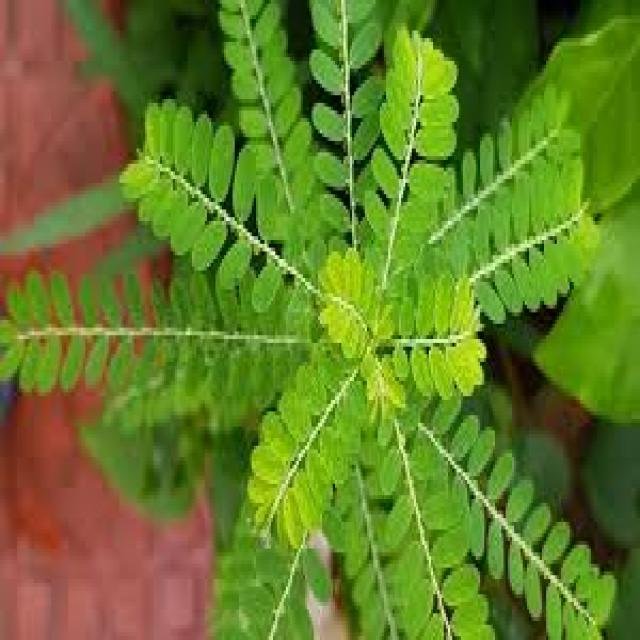healthy_leaf: (5, 11, 631, 626)
